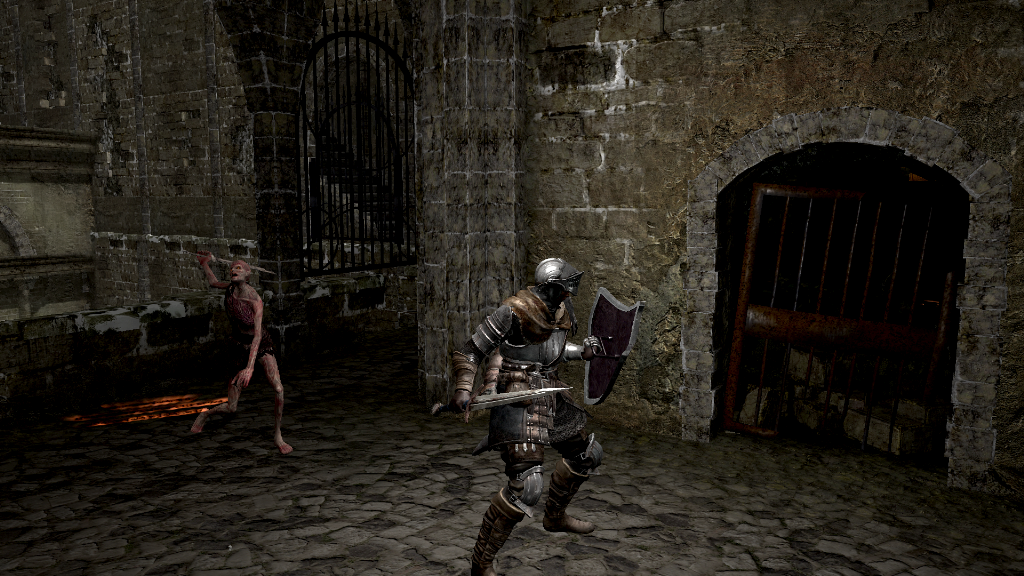hollow: (190, 248, 293, 456)
player: (428, 256, 646, 576)
